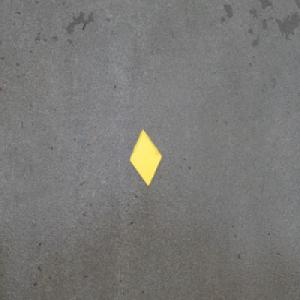PlasticPart: (128, 127, 163, 188)
